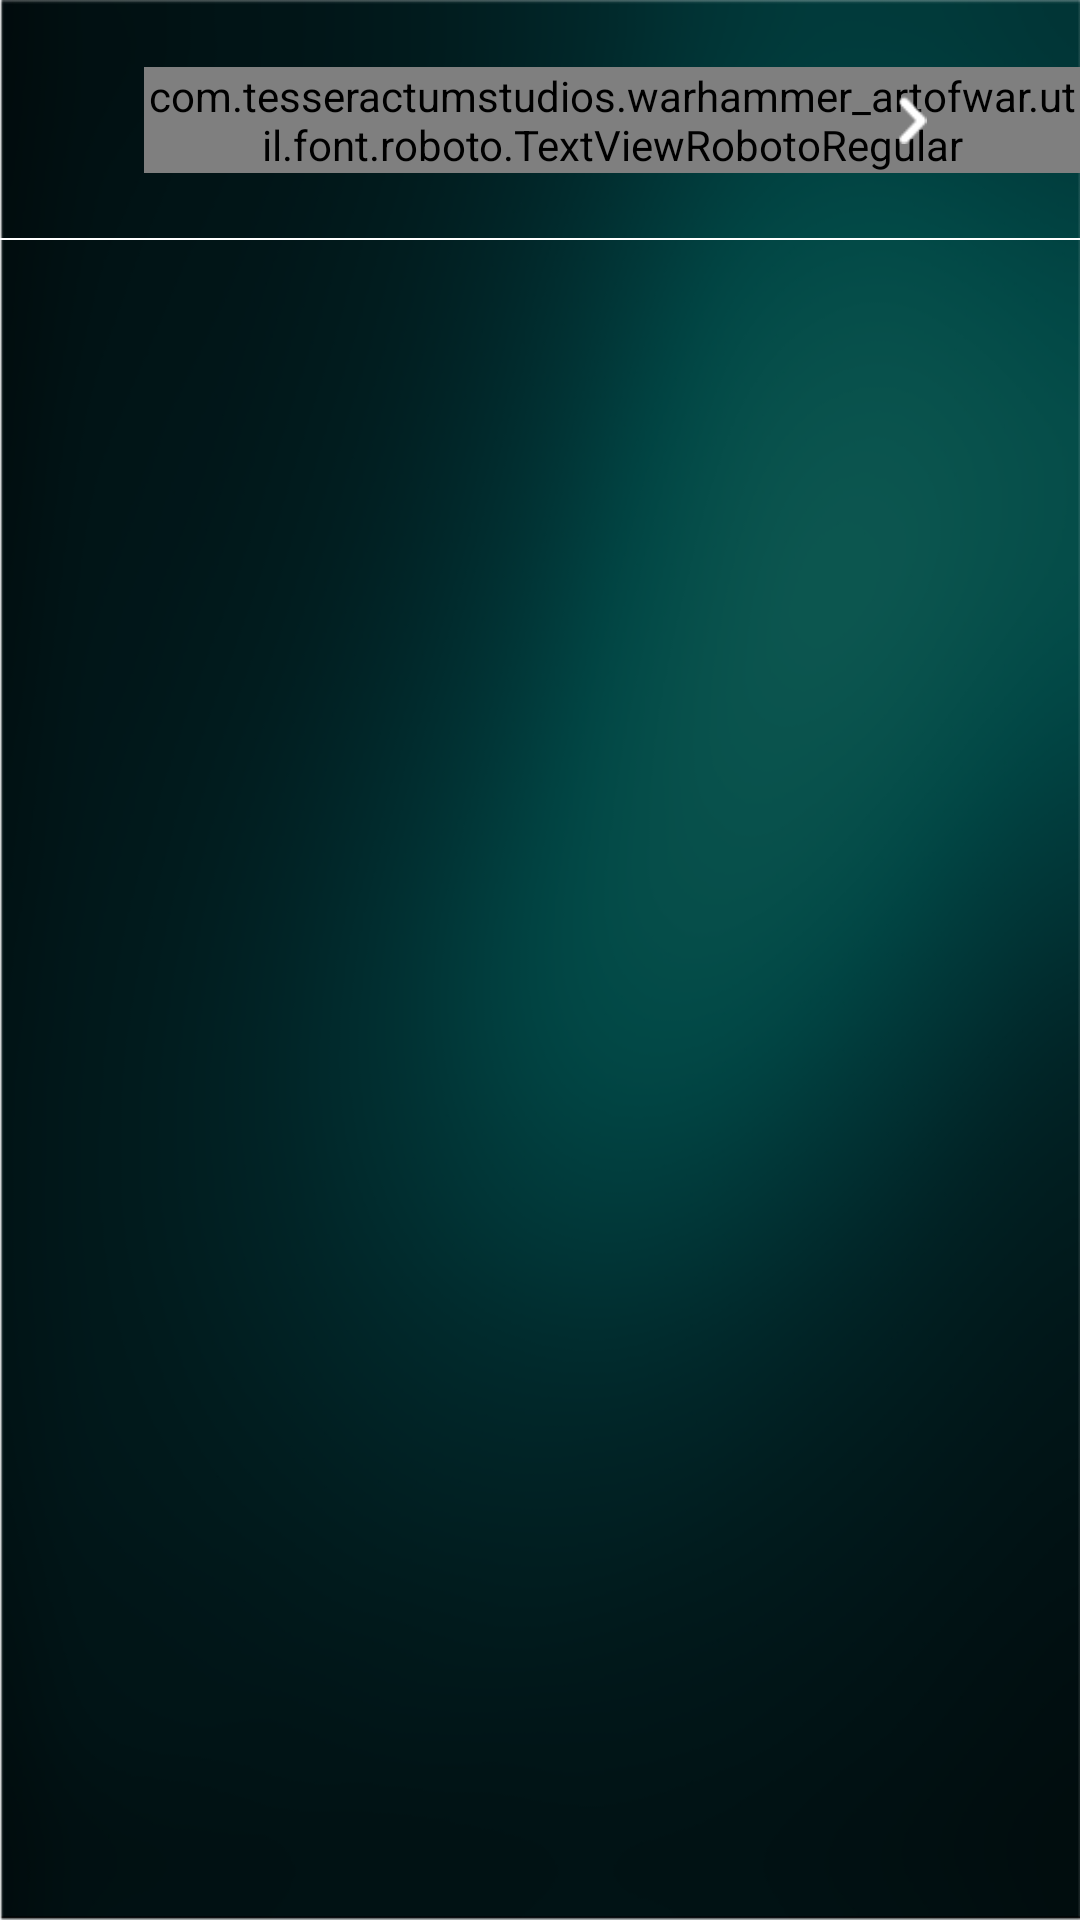

Icon bounding boxes for this 1080 x 1920 phone screenshot, format [x1, y1, x2, y2]:
list arrow right: [888, 96, 936, 144]
